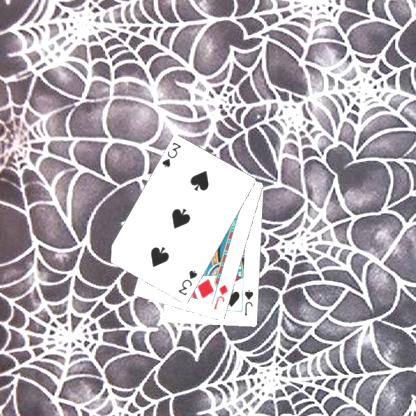3S: (159, 140, 183, 170), (176, 267, 199, 297)
JD: (210, 282, 230, 311)
JS: (242, 287, 255, 317)
